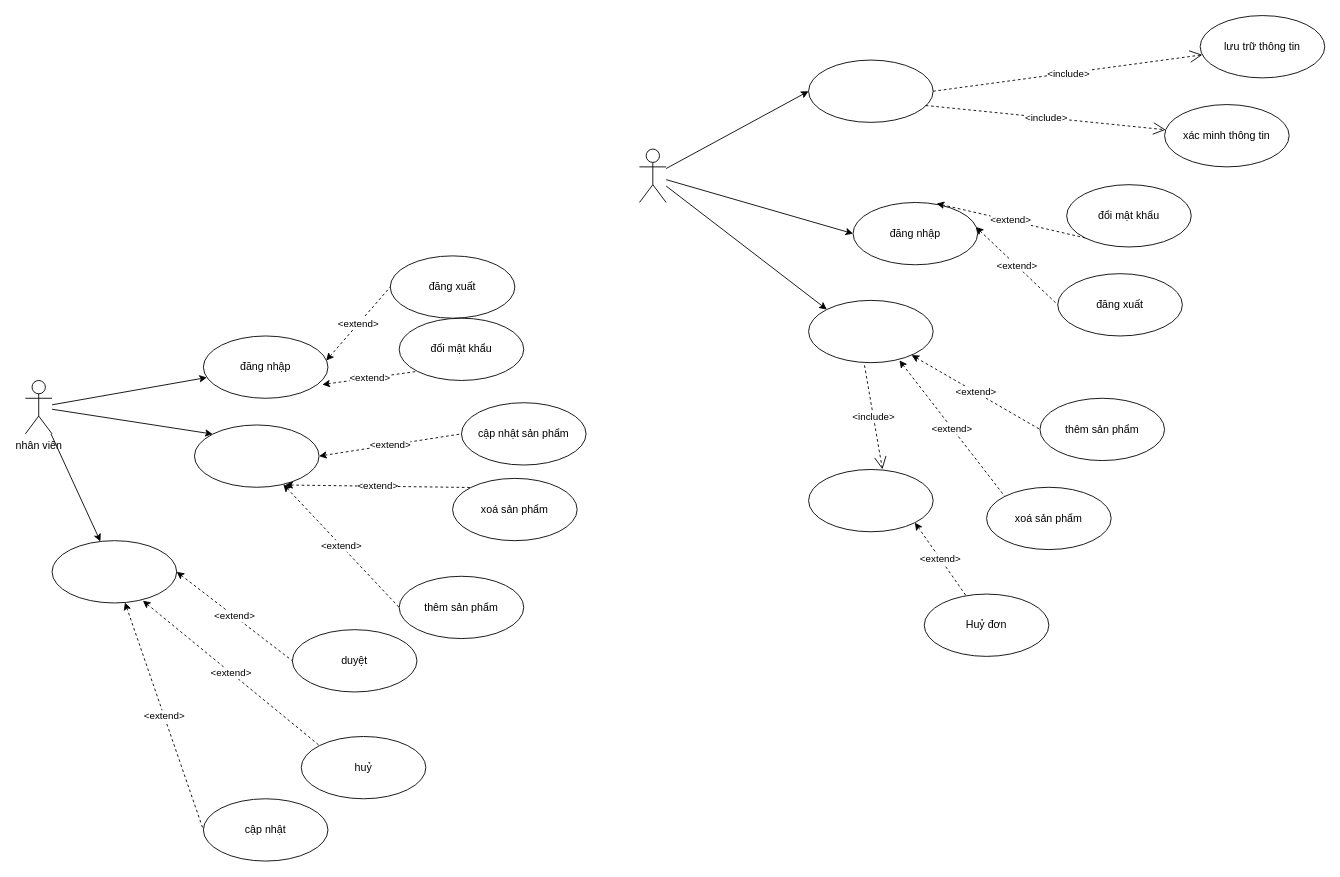
This 1340x877 diagram has some shape labels left out. The centre of each missing label's shape, as x and y in pixels:
"giỏ hàng" belongs at point 870,331.
"khách hàng" belongs at point 652,175.
"quản lý sản phẩm" belongs at point 256,455.
"quản lý đơn hàng" belongs at point 114,571.
"đăng ký" belongs at point 870,90.
"đặt hàng" belongs at point 870,500.
